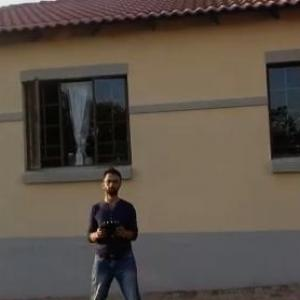follow: (82, 160, 151, 299)
